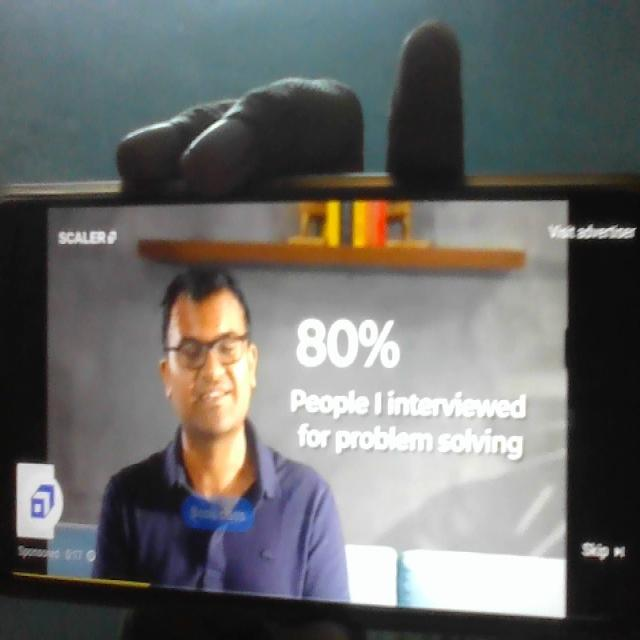fake: (156, 251, 265, 456)
